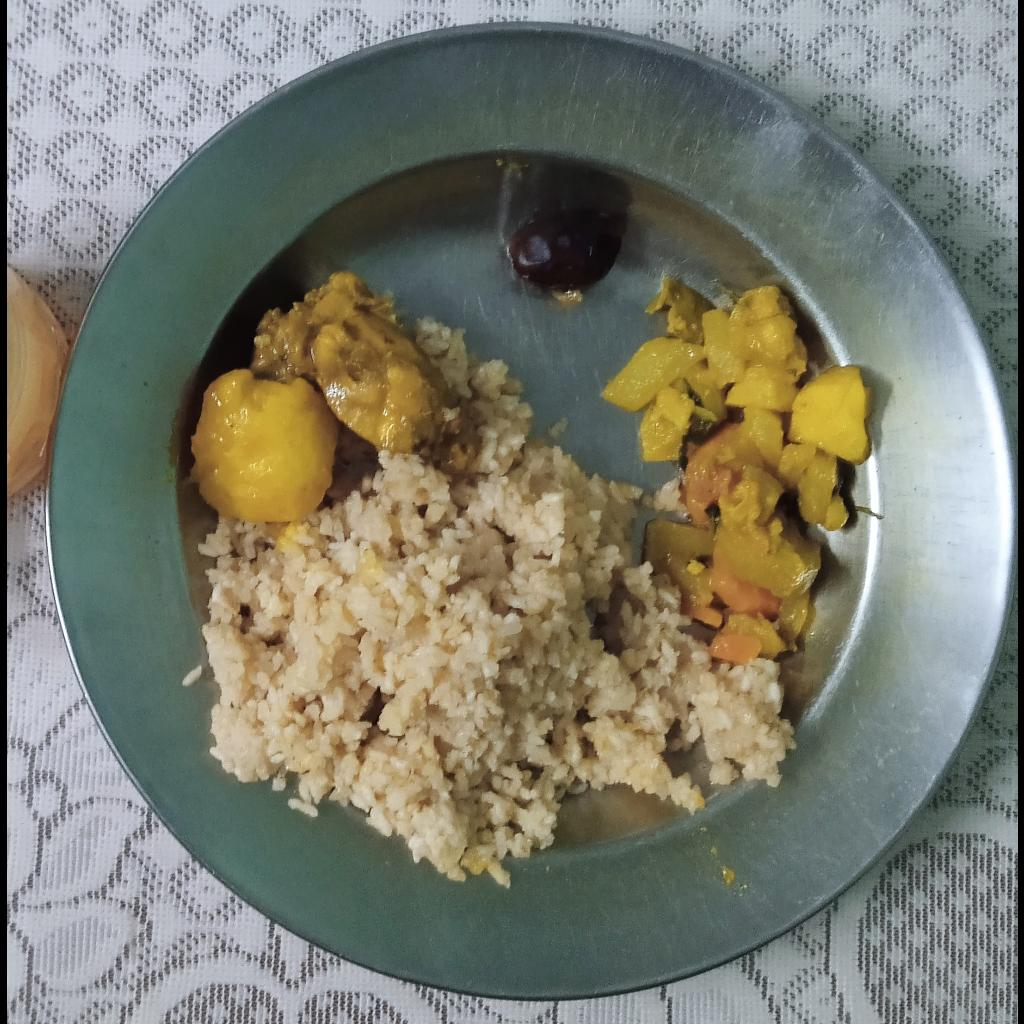biriyani: (197, 318, 799, 887)
chicken: (251, 270, 486, 473)
dates: (494, 157, 631, 307)
potato: (187, 366, 335, 523)
vegetable: (601, 278, 870, 658)
